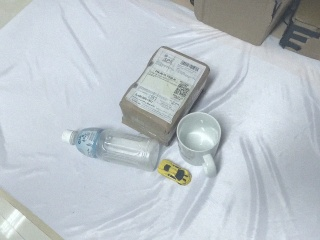bottle: (62, 126, 161, 170)
box: (120, 45, 211, 144), (191, 1, 302, 46), (278, 1, 320, 66)
cup: (176, 112, 223, 177)
toy_car: (157, 158, 192, 186)
